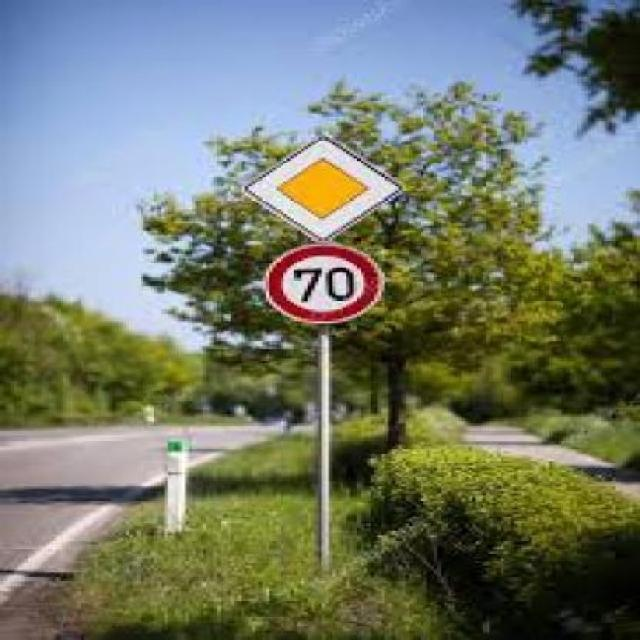forb_speed_over_70: (268, 245, 383, 319)
